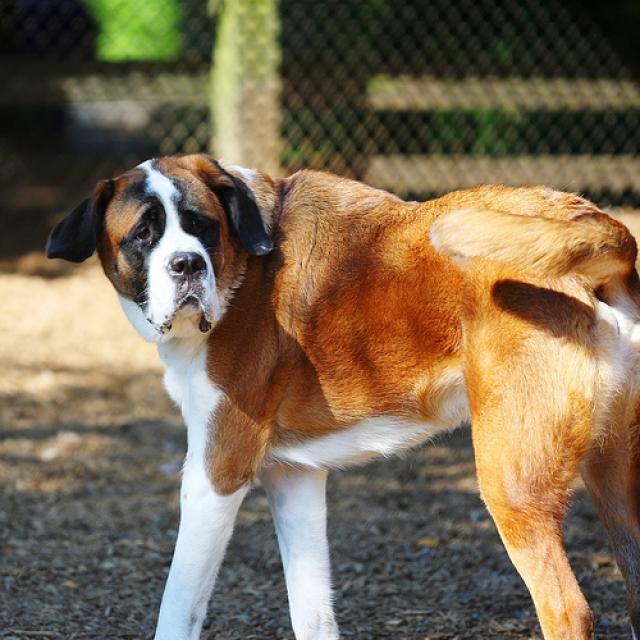dog-saint_bernard: (37, 141, 637, 637)
